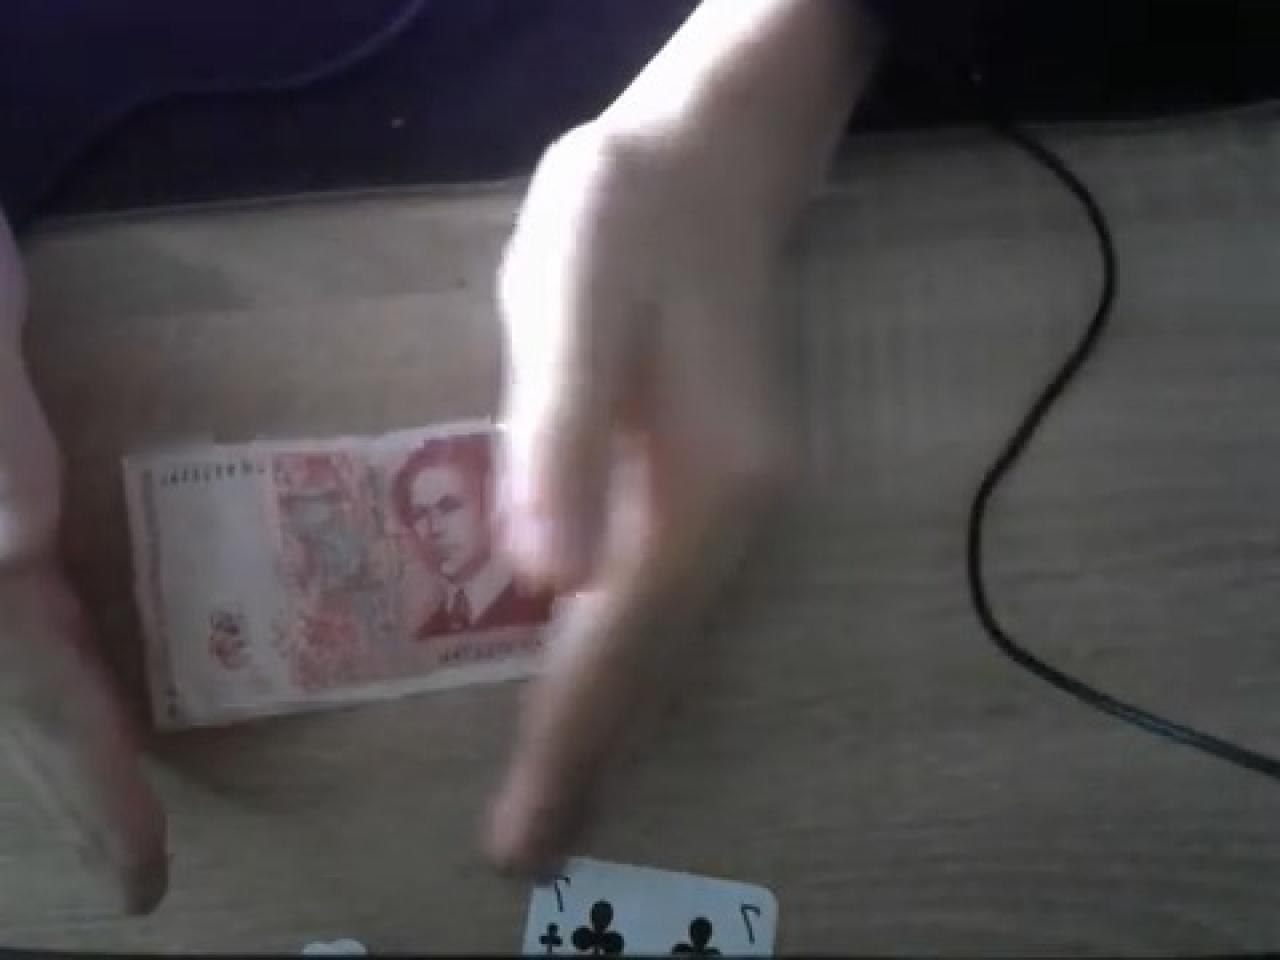5leva: (75, 178, 554, 736), (83, 182, 546, 736), (91, 182, 549, 736)
